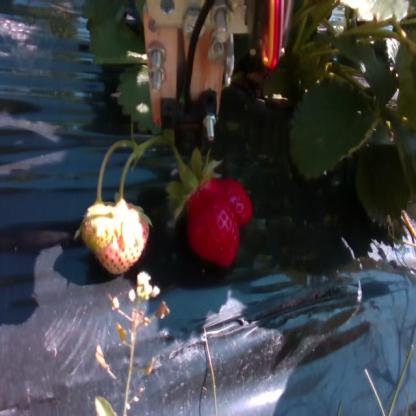ripe: (186, 193, 240, 266), (199, 181, 251, 222)
unripe: (95, 207, 150, 270), (82, 207, 115, 247)
